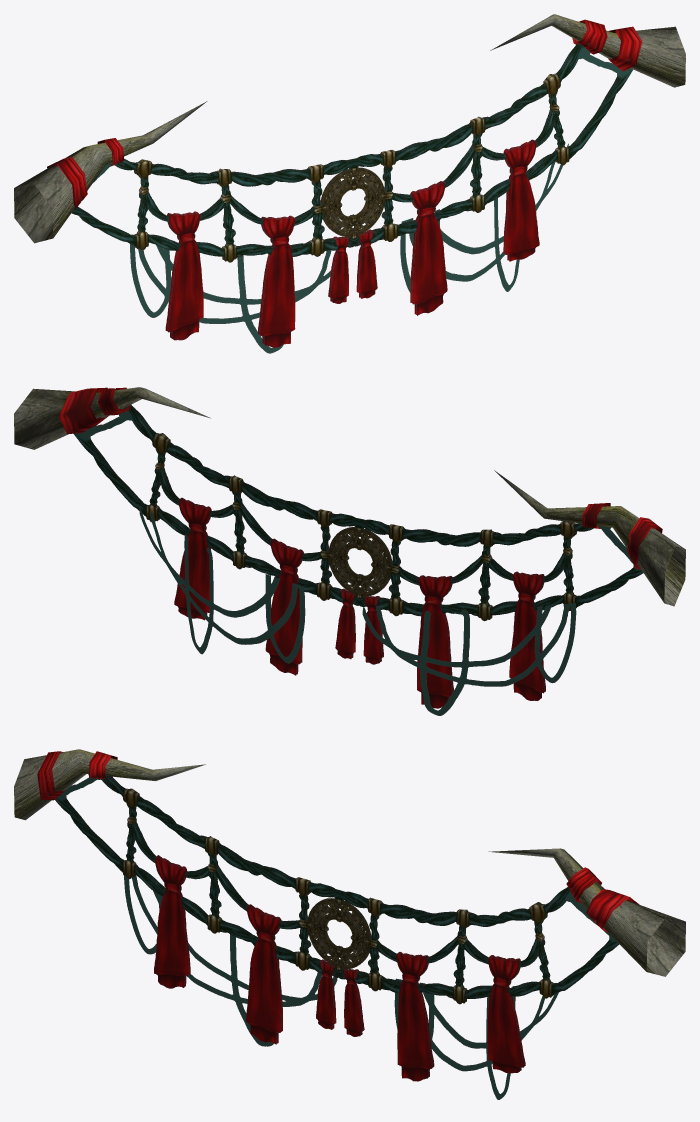
File: prayer_banner01.fbx
The picture shows the model from 3 angles, top to bottom: view 1: azimuth 30°, elevation 25°; view 2: azimuth 150°, elevation 25°; view 3: azimuth 330°, elevation 25°; orthographic projection.
Visible parts, largest first — view 1: prayer_banner01; view 2: prayer_banner01; view 3: prayer_banner01.
Boxes of the visible parts, <box> form: prayer_banner01: <box>14,14,685,353</box>; prayer_banner01: <box>14,387,685,715</box>; prayer_banner01: <box>14,749,685,1099</box>.
Bounding box in the file's own units: 43.2 × 17.97 × 3.51.
